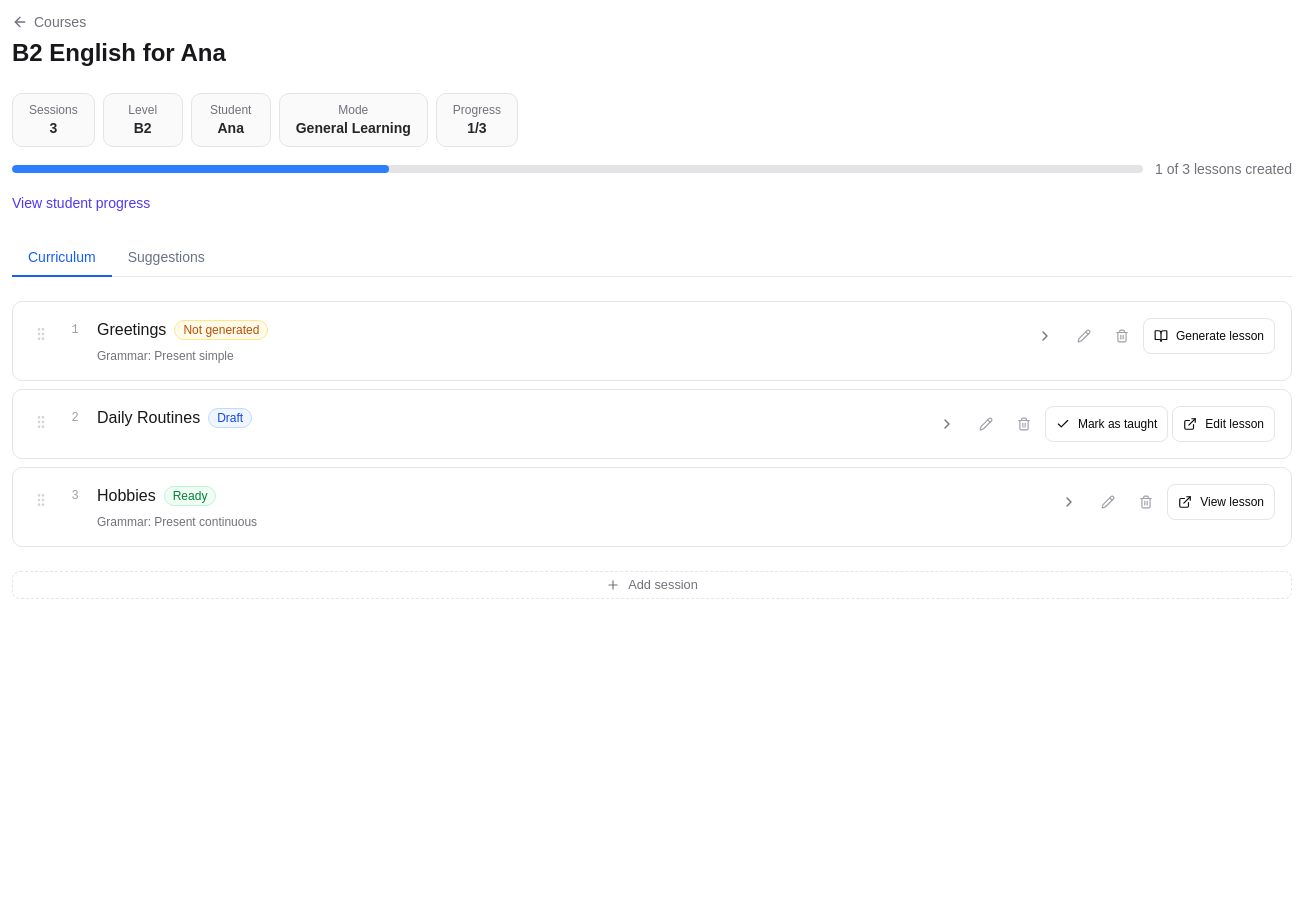
CourseDetail › expanded entry renders gracefully when optional fields are null
Expected: the heading "B2 English for Ana" is shown, [12,37,226,69]
Click the button with test id "expand-entry-0": point(1045, 336) [1027,318,1063,354]
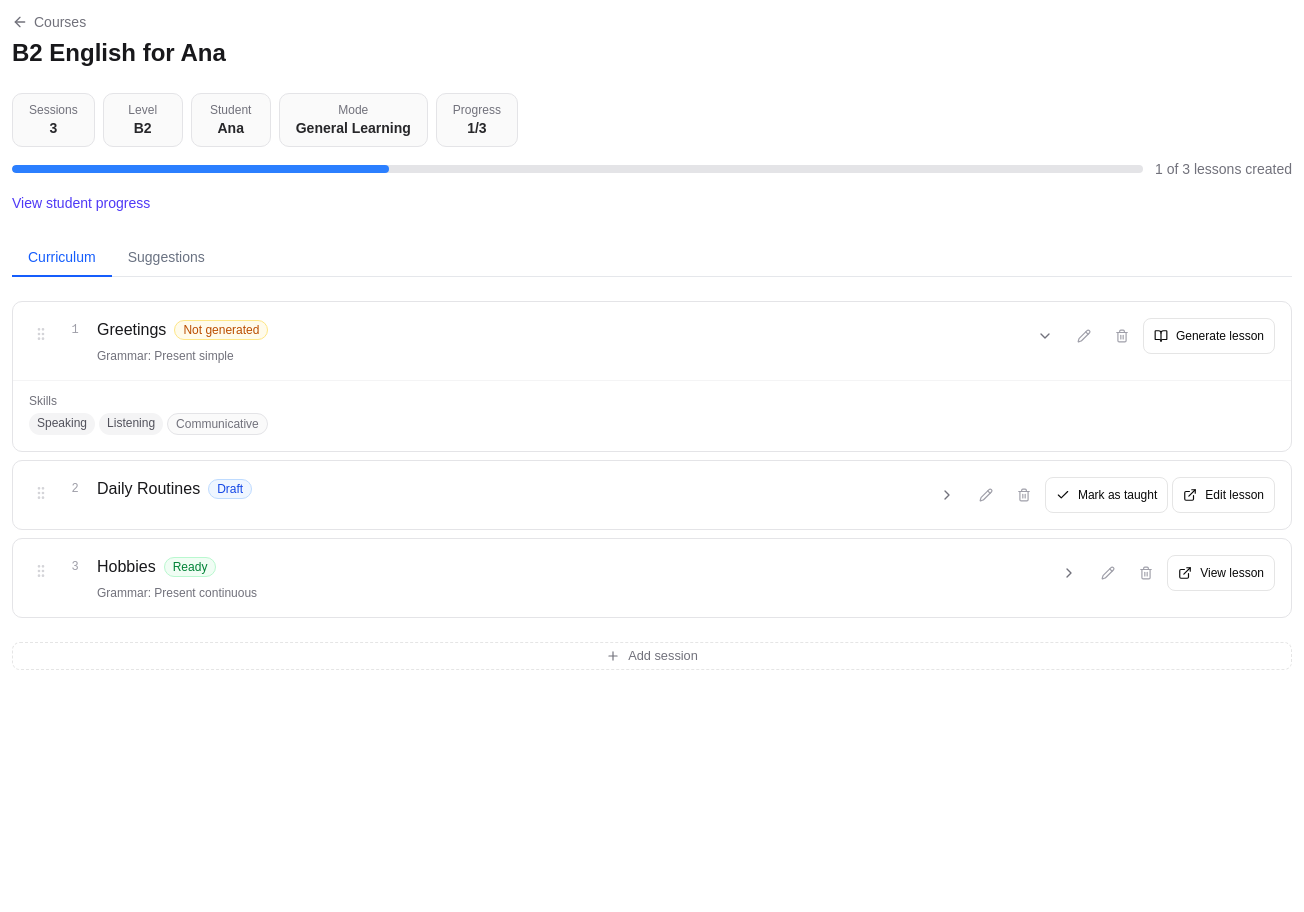
Expected: the element with test id "entry-details-0" is shown, [13,380,1291,451]
